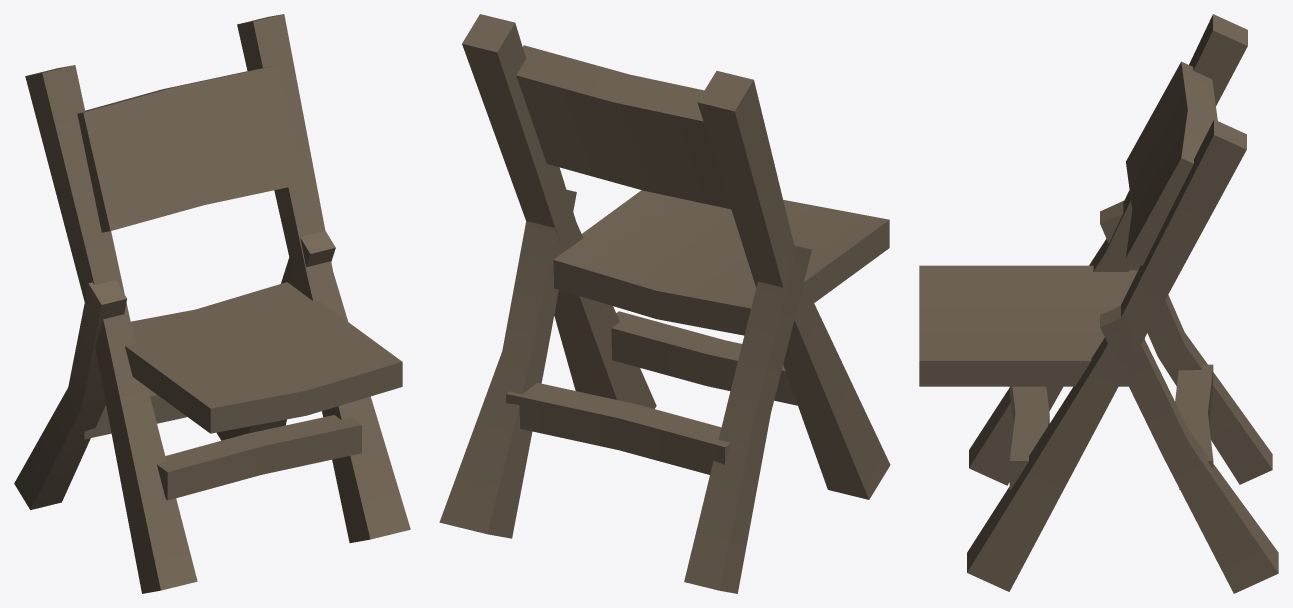
Rendered from klapstoel.fbx.
3 views of the same model, side by side, from view 1: azimuth 30°, elevation 25°; view 2: azimuth 150°, elevation 25°; view 3: azimuth 270°, elevation 25° (orthographic). The views are drawn at different scales.
Parts seen in each view (by area): view 1: stoel; view 2: stoel; view 3: stoel.
Boxes of the visible parts, bbox=[...] form: stoel: bbox=[14, 14, 410, 593]; stoel: bbox=[439, 14, 890, 593]; stoel: bbox=[919, 14, 1278, 593].
Size of the model in its own units: 60.62 by 105 by 74.47.
